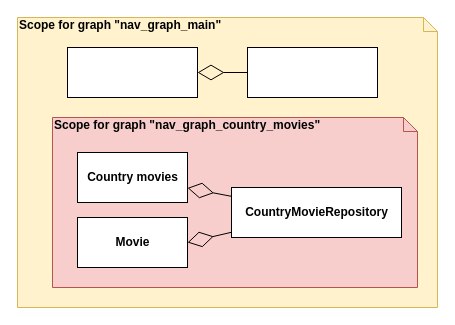
The diagram is 455 pixels wide and 325 high, and some of its shapes have lost their labels. Here are the shapes that lost their labels. From the top down, the centre of each, then its label:
the point at 132,72: CountriesFragment
the point at 312,72: MovieRepository
